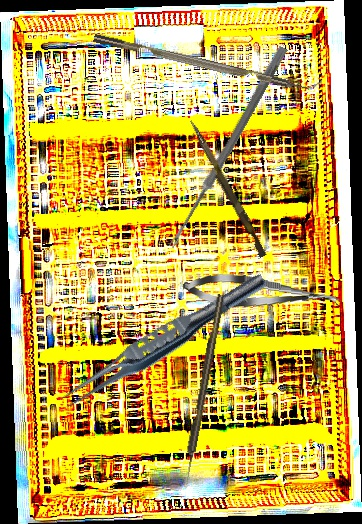Chopper: (93, 22, 323, 98)
Hook Surgical: (181, 293, 226, 481)
Micro Scissor: (181, 270, 343, 316)
Pusher: (183, 119, 271, 258)
Surgical Spoon: (167, 44, 288, 251)
Tissue Forceps: (55, 263, 271, 419)
